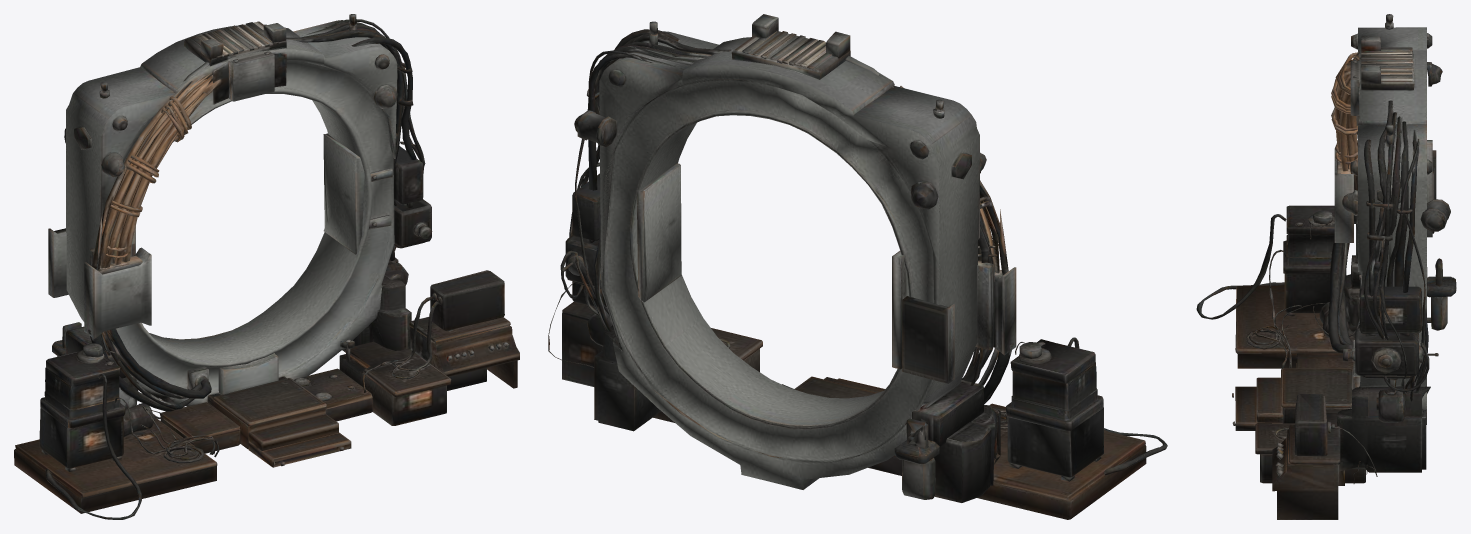
Rendered from prp_displacement_engine.glb.
3 views of the same model, side by side, from view 1: azimuth 30°, elevation 25°; view 2: azimuth 150°, elevation 25°; view 3: azimuth 270°, elevation 25° (orthographic). The views are drawn at different scales.
Bounding box in the file's own units: 0.9575 × 0.7285 × 0.4756.
Materials: 1 (1 with a texture image).
